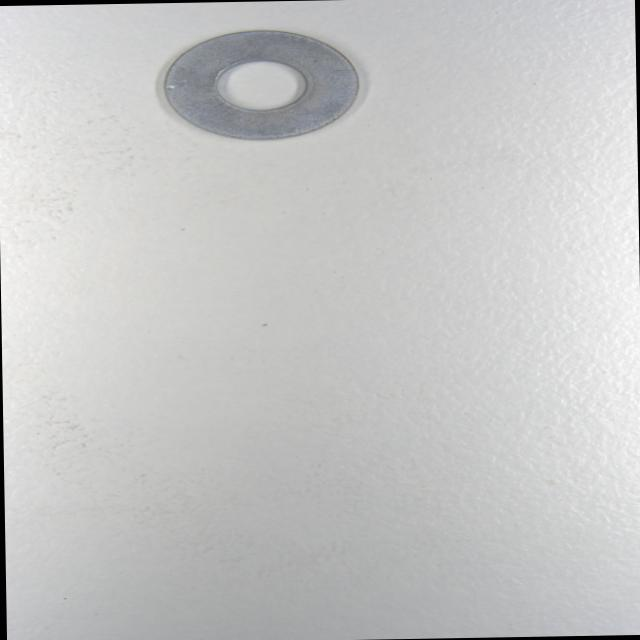washer: (158, 27, 362, 143)
